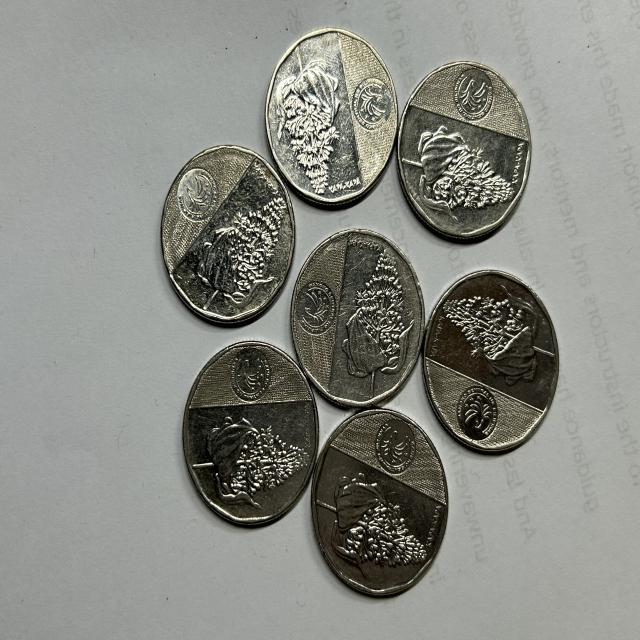10_New_Back: (438, 274, 552, 404), (326, 451, 427, 581), (404, 107, 508, 225), (198, 174, 278, 320), (277, 52, 354, 195), (182, 407, 315, 489), (345, 245, 407, 392)
